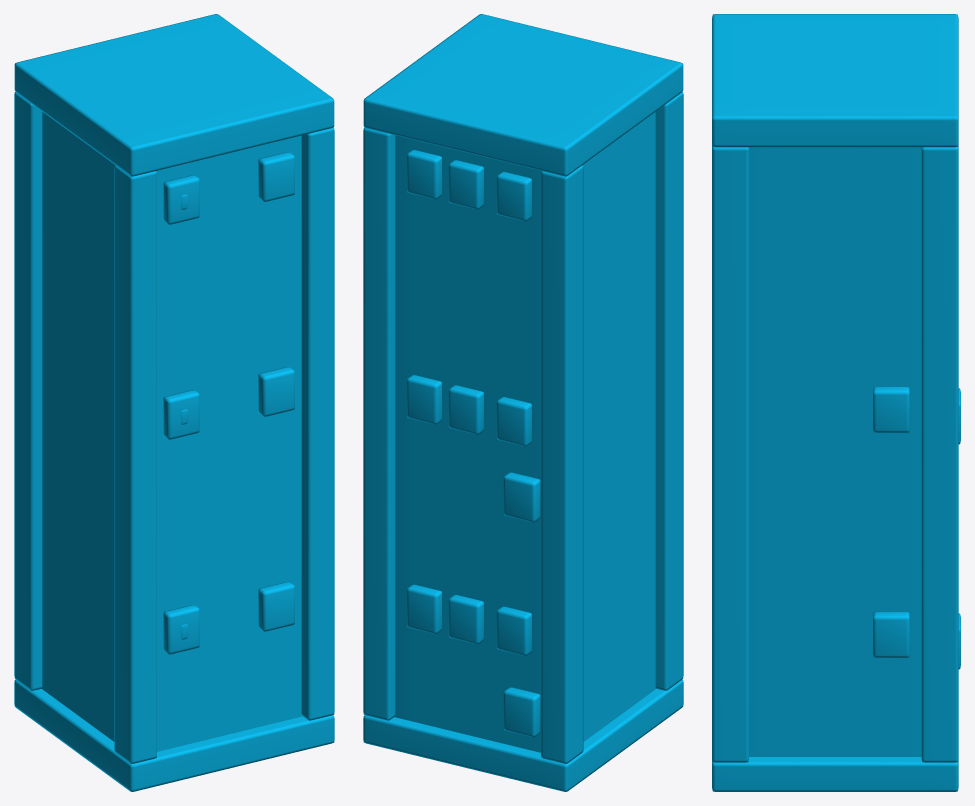
The model's file is SM_Clay_Body_04.fbx.
3 views of the same model, side by side, from view 1: azimuth 30°, elevation 25°; view 2: azimuth 150°, elevation 25°; view 3: azimuth 270°, elevation 25° (orthographic). The views are drawn at different scales.
Visible parts, largest first — view 1: SM_Clay_Body_04; view 2: SM_Clay_Body_04; view 3: SM_Clay_Body_04.
Boxes of the visible parts, x1,y1,x2,y2 form: SM_Clay_Body_04: (14, 14, 334, 791); SM_Clay_Body_04: (363, 14, 683, 791); SM_Clay_Body_04: (712, 14, 960, 791).
Bounding box in the file's own units: 0.991 × 2.99 × 0.9992.
